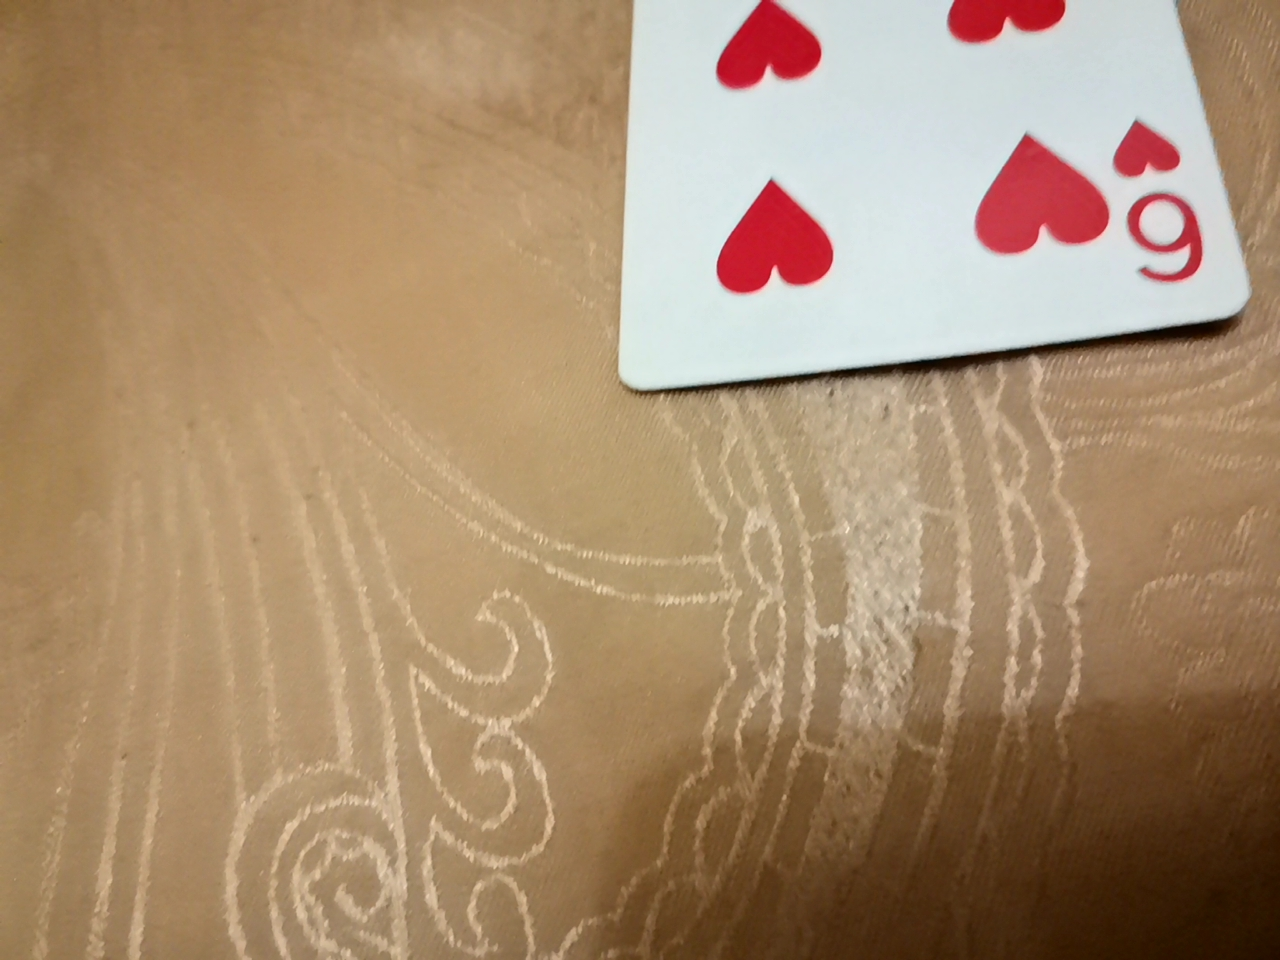hx 6: (629, 0, 1224, 433)
